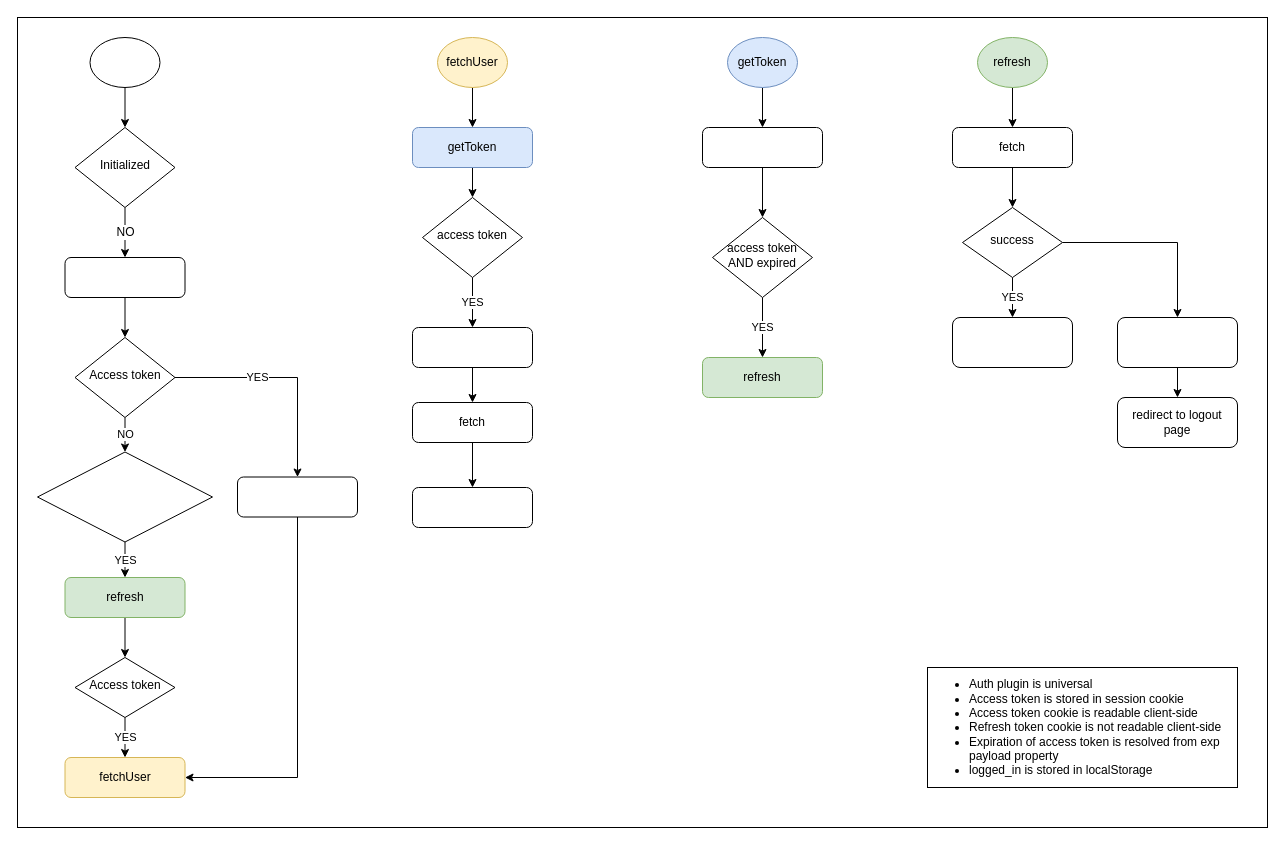
Some shapes in this 1285 by 845 pixel diagram are drawn without their labels. Each missing label, with the box of its shape:
Add authorization header: (412, 326, 532, 368)
Auth Plugin: (89, 36, 160, 88)
callback page OR logged_in OR refresh token: (36, 451, 212, 542)
clear access token and refresh token and logged_in: (1116, 316, 1238, 368)
Get access token cookie: (702, 126, 822, 168)
initialized = true: (64, 256, 185, 298)
logged_in = yes: (236, 476, 358, 517)
set access token and refresh token and logged_in: (952, 316, 1072, 368)
set user state: (412, 486, 532, 528)
